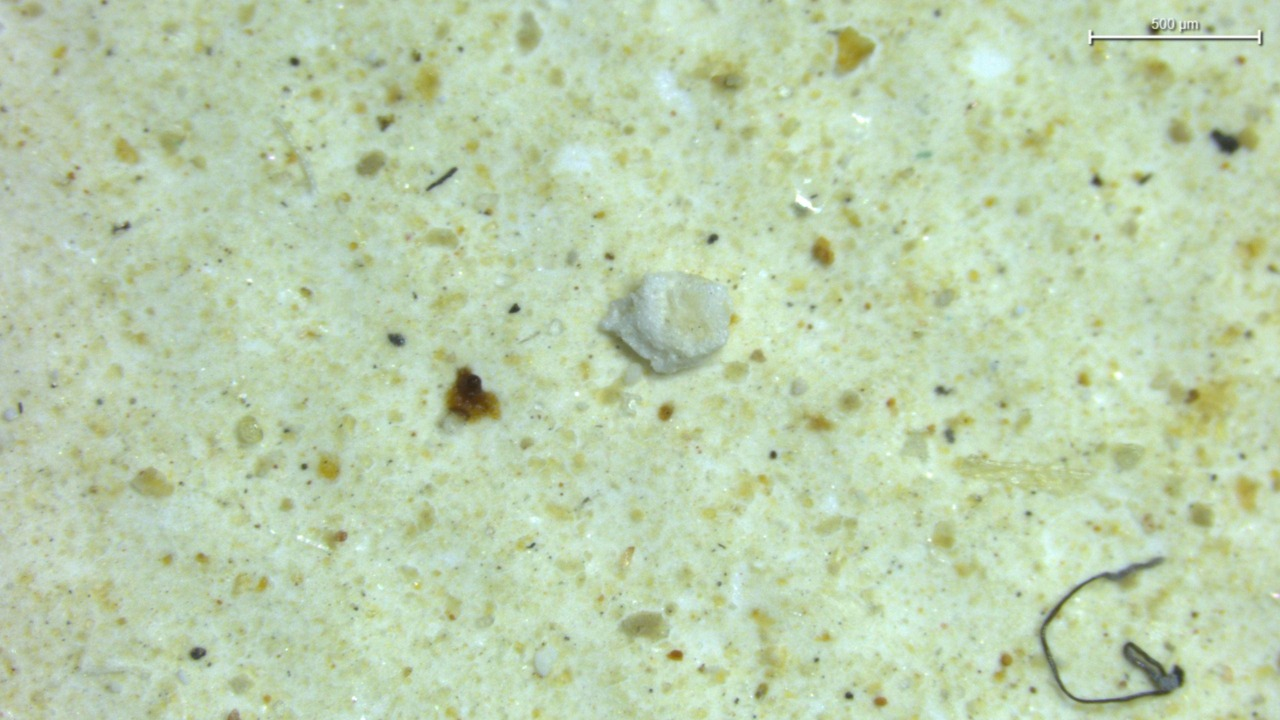microplastic_fragment: (600, 272, 732, 373)
